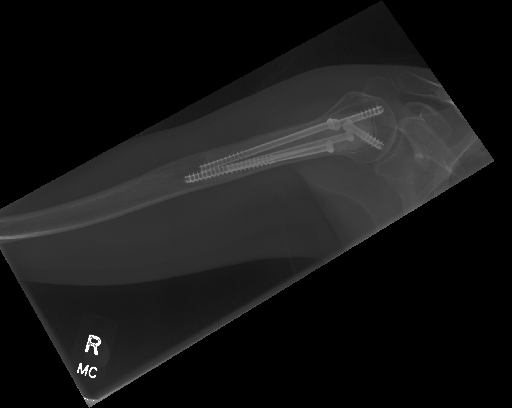implant: (186, 101, 390, 185)
